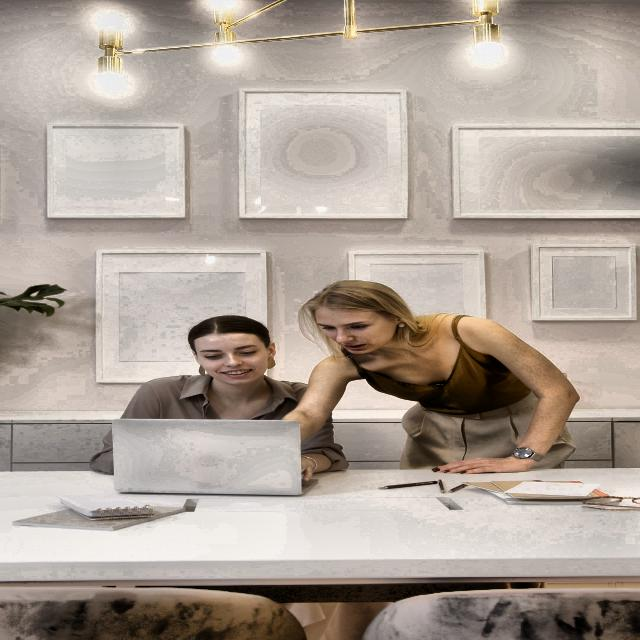not-gloved: (424, 443, 576, 488)
